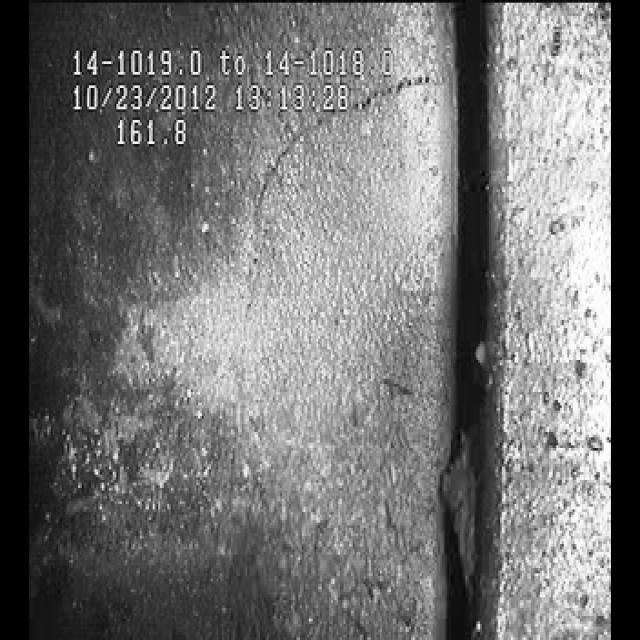Crack: (264, 58, 438, 198)
